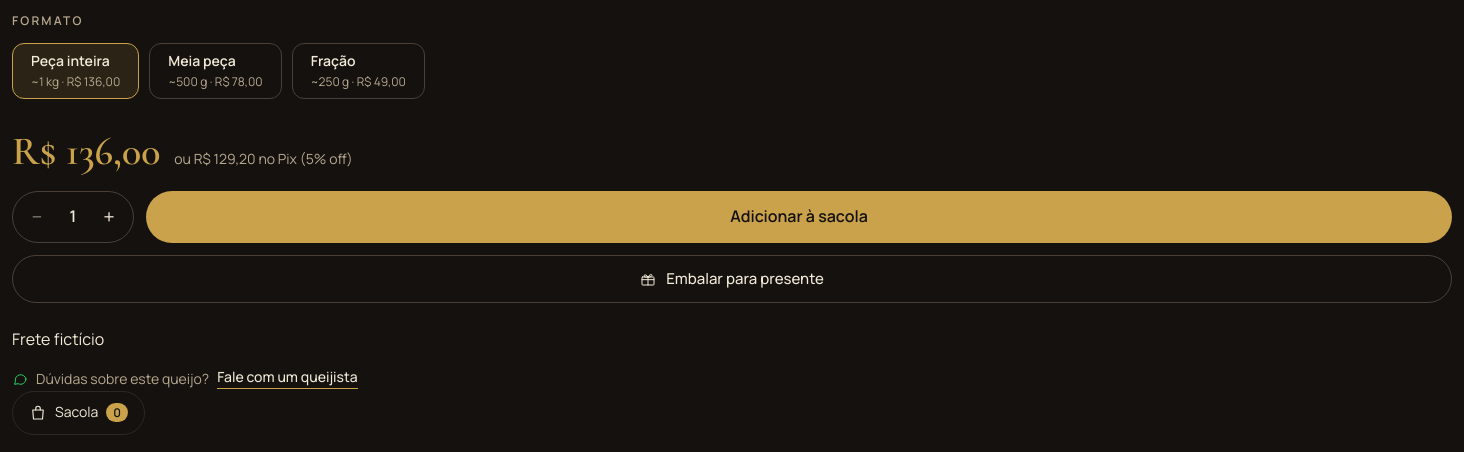
it: PainelDeCompra › a quantidade começa em 1, o − fica aria-disabled e o + soma
Expected: the text "1" is shown, [70, 205, 76, 227]
Click the button named "Aumentar quantidade": [109, 217] box [85, 191, 133, 243]
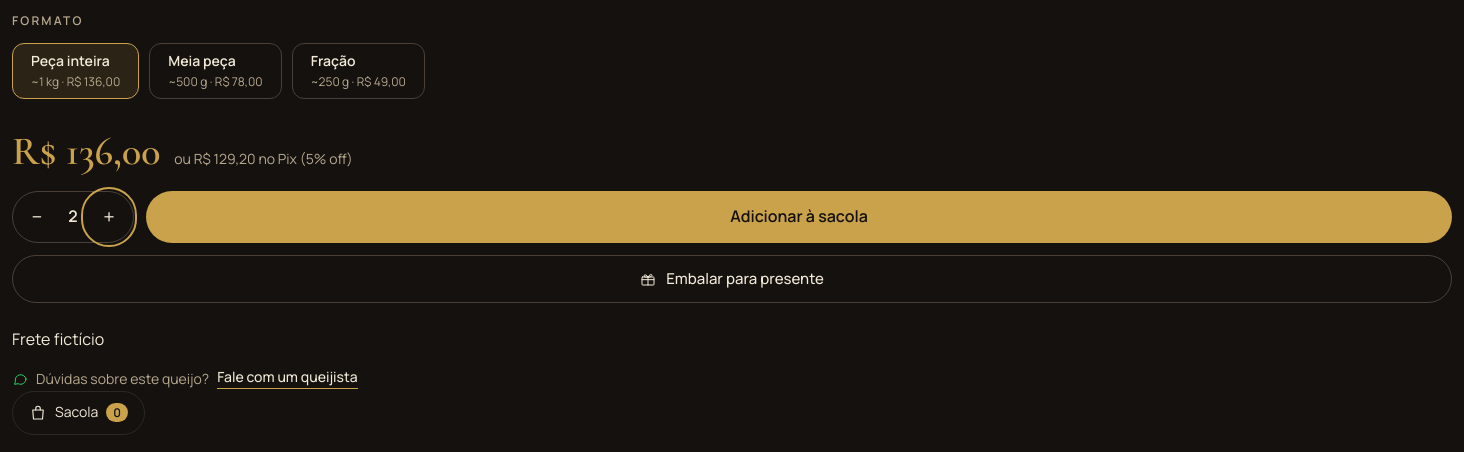
Click the button named "Aumentar quantidade": [109, 217] box [85, 191, 133, 243]
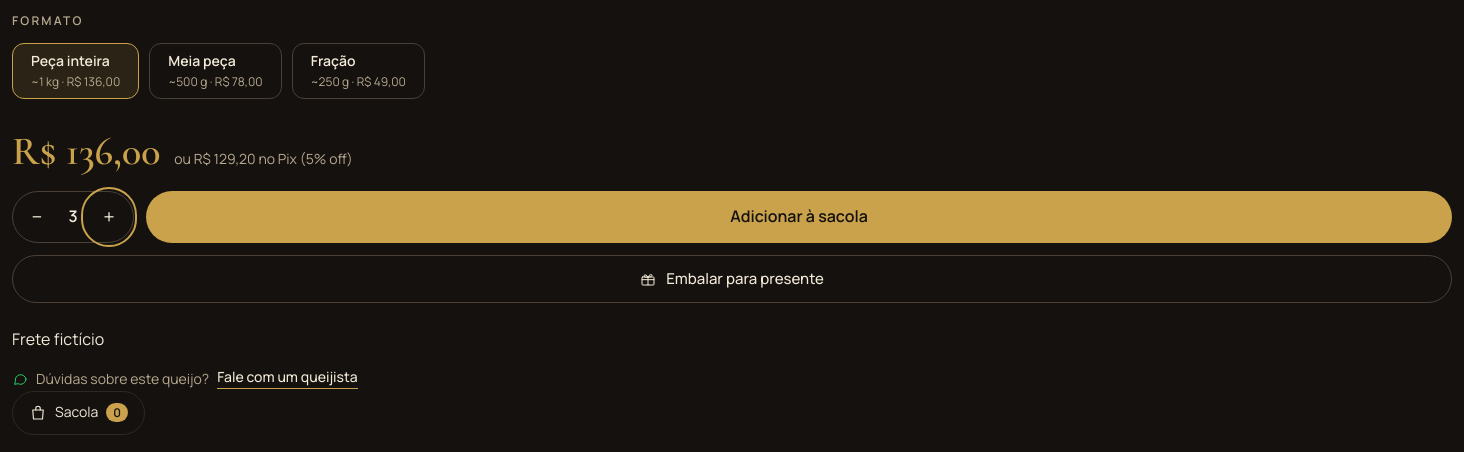
Now the text "3" is shown, box [68, 205, 78, 227]
Click the button named "Diminuir quantidade": [37, 217] box [13, 191, 61, 243]
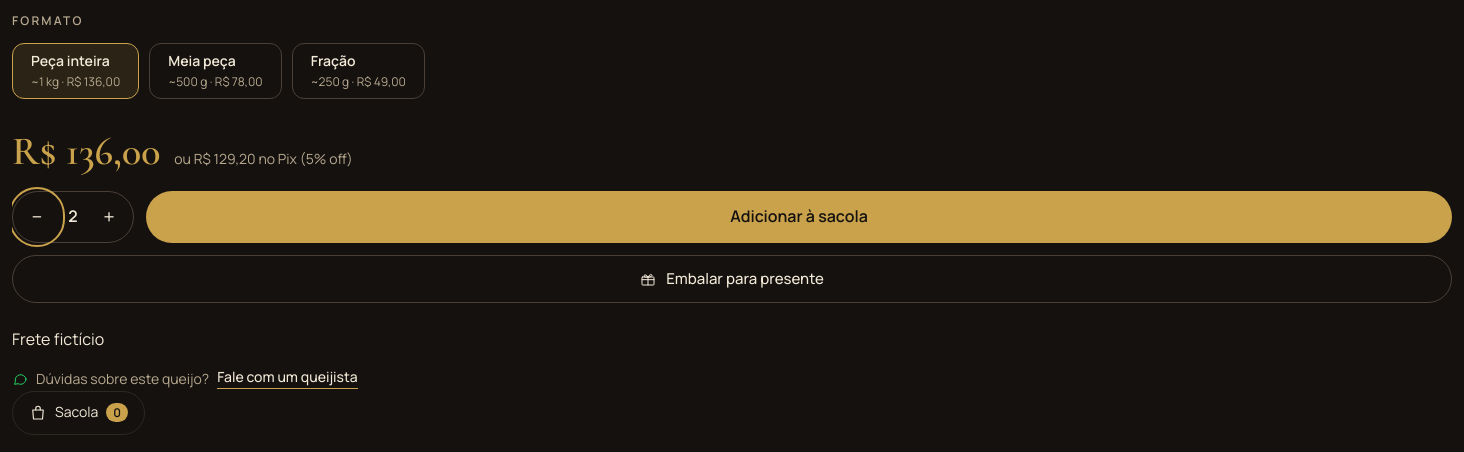
Click the button named "Diminuir quantidade": [37, 217] box [13, 191, 61, 243]
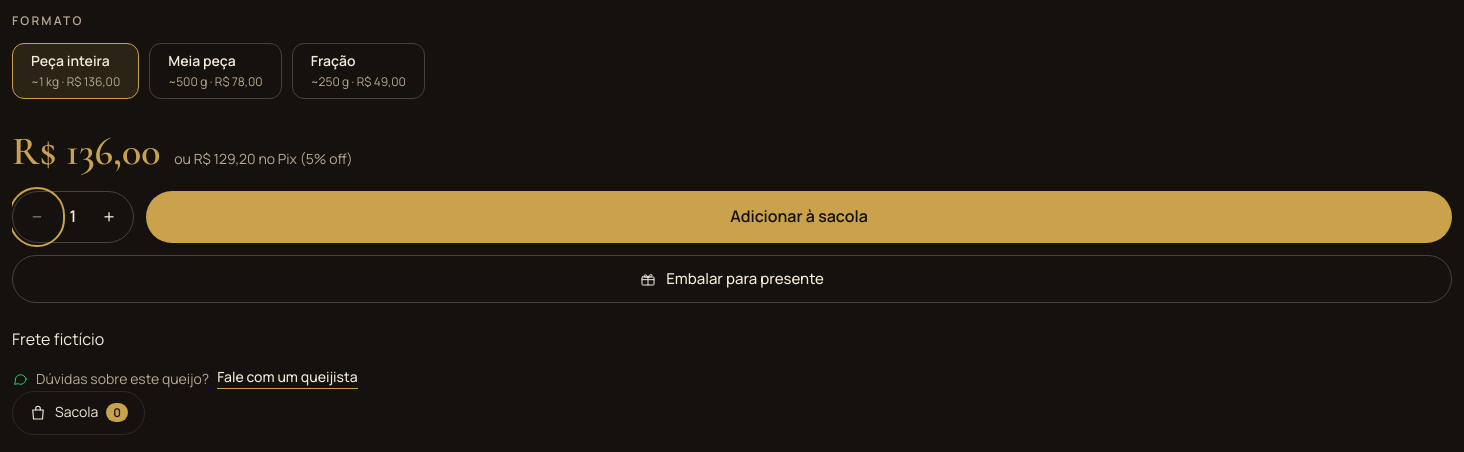
Now the text "1" is shown, box [70, 205, 76, 227]
